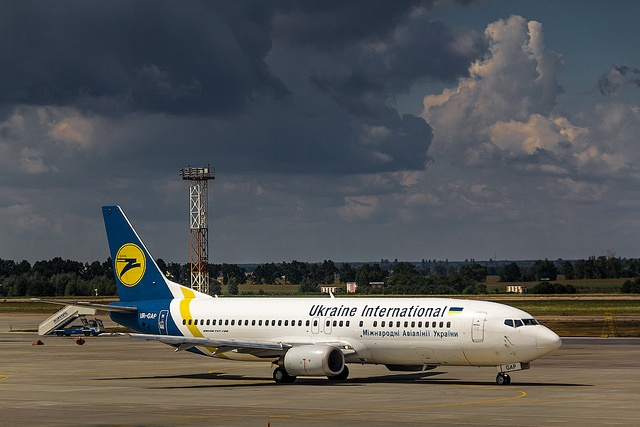airplane: (72, 206, 637, 427)
